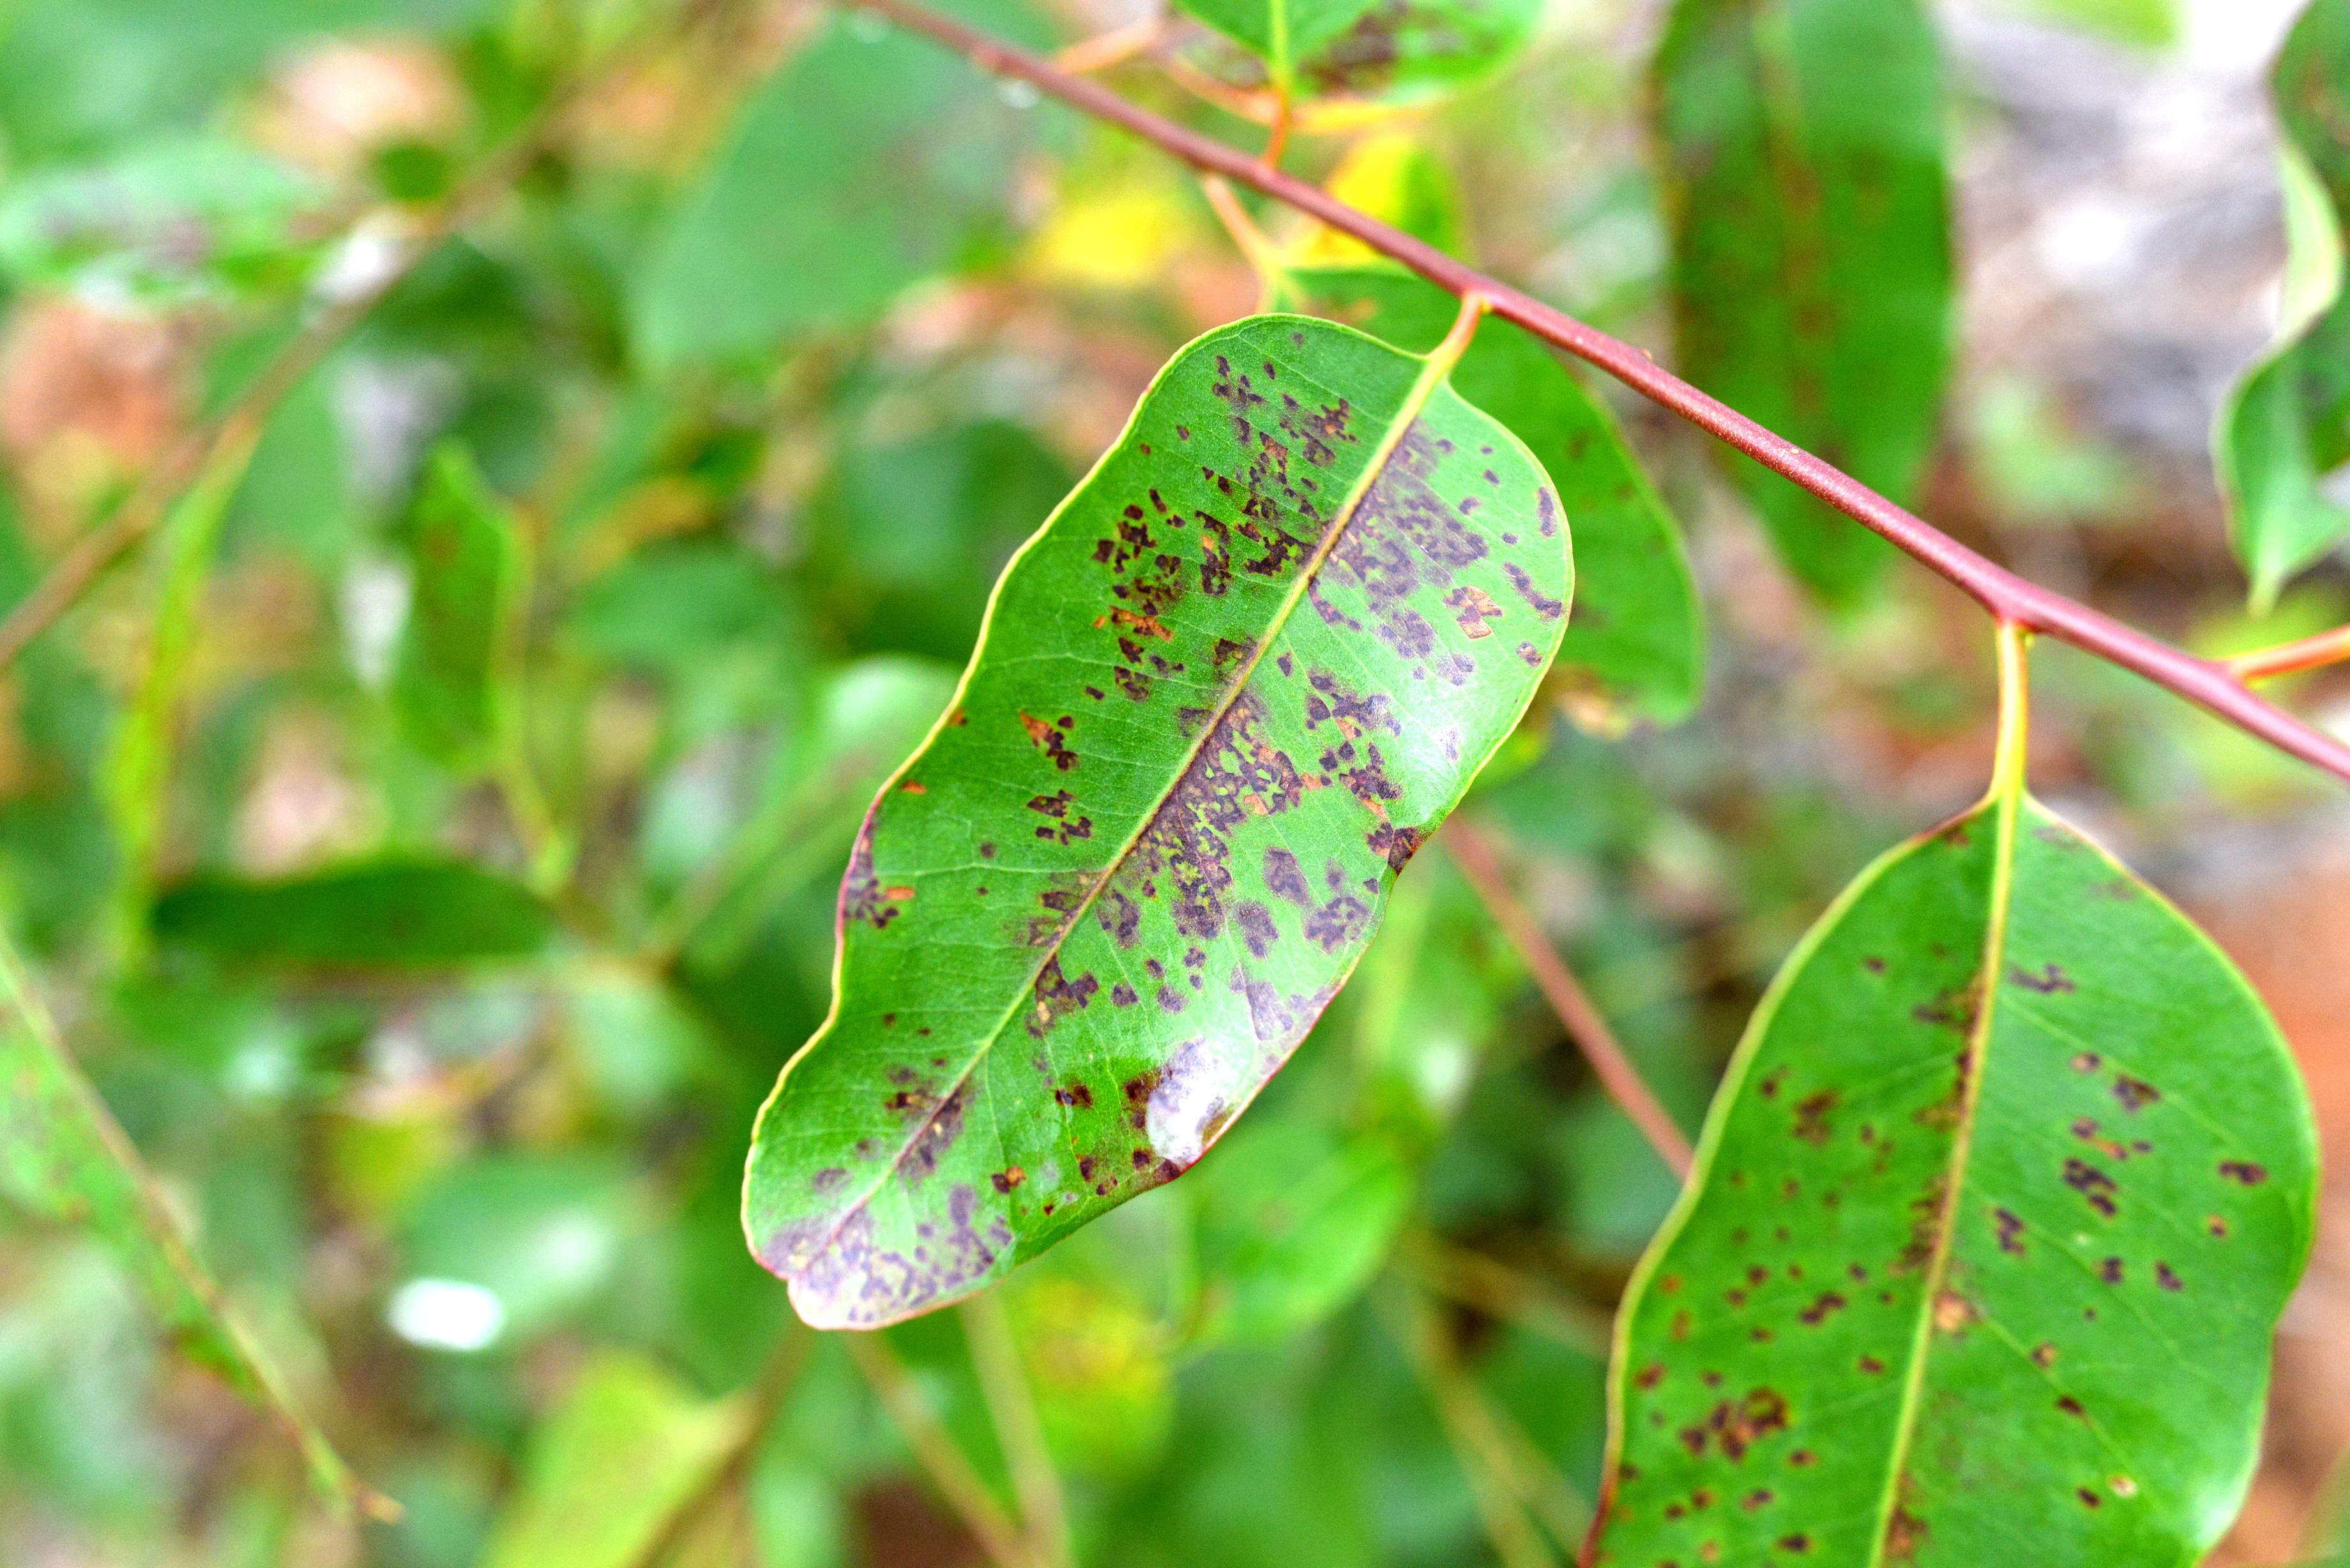Xanthomonas: (728, 301, 1575, 1337), (1591, 815, 2331, 1568), (1647, 0, 1965, 614)
